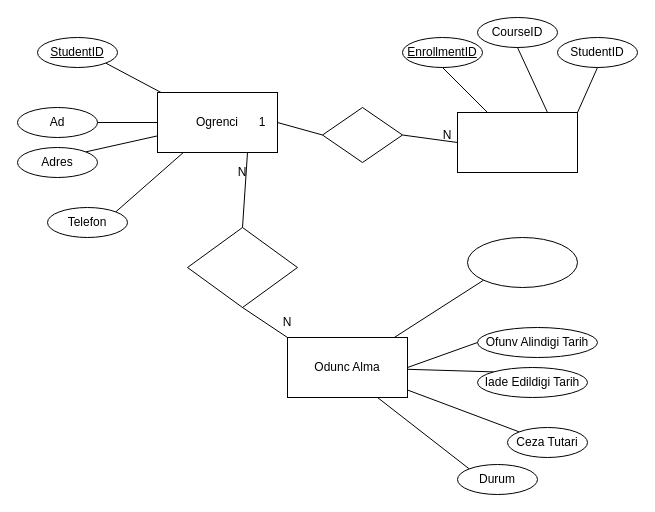
The diagram is 655 pixels wide and 512 high, and some of its shapes have lost their labels. Each missing label, with the centre of its shape:
Kayit: point 517,142
Kitap odunc alma: point 242,267
Kitap Yazar: point 362,134
Odunc Alma Kimlik: point 522,262
